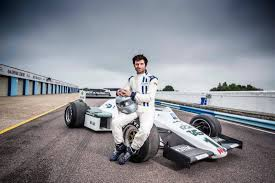FormulaOneCar: (64, 85, 244, 170)
